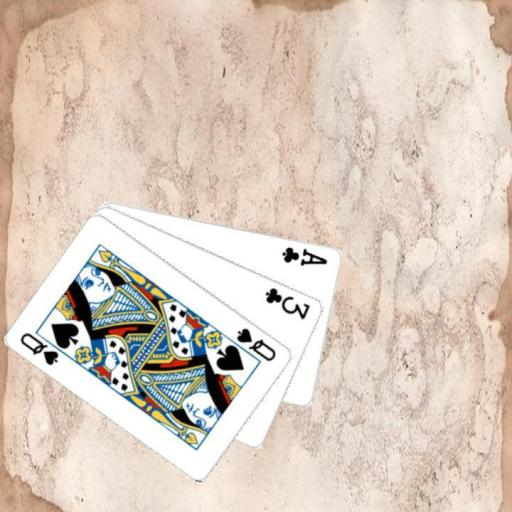3C: (263, 284, 313, 321)
AC: (280, 244, 330, 268)
QS: (233, 325, 278, 364), (17, 329, 61, 367)
